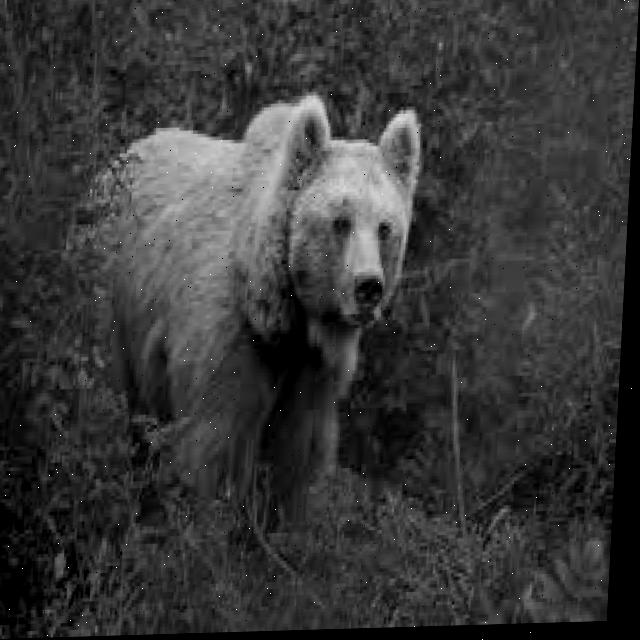Bear: (97, 106, 418, 552)
